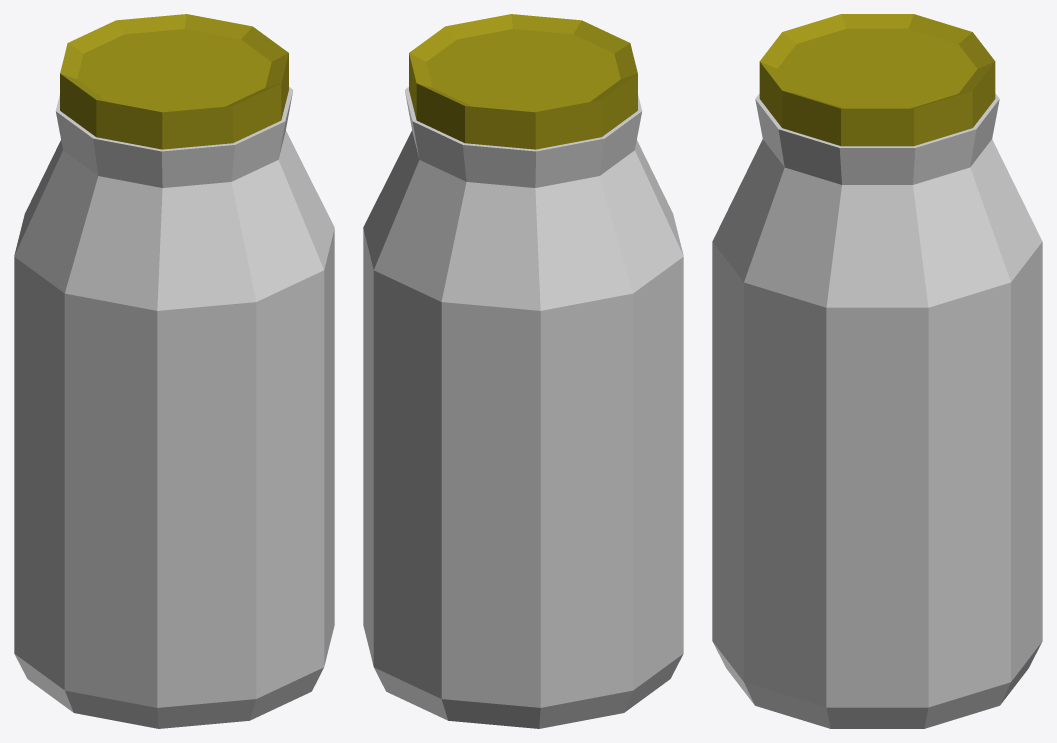
File: Jar_01.fbx
3 views of the same model, side by side, from view 1: azimuth 30°, elevation 25°; view 2: azimuth 150°, elevation 25°; view 3: azimuth 270°, elevation 25° (orthographic).
Visible parts, largest first — view 1: Jar_01; view 2: Jar_01; view 3: Jar_01.
Part boxes in pixels (box(x1,y1,x2,y2)): Jar_01: box(14, 14, 334, 728); Jar_01: box(363, 14, 683, 728); Jar_01: box(712, 14, 1042, 728).
Bounding box in the file's own units: 34.17 × 72.88 × 35.93.
